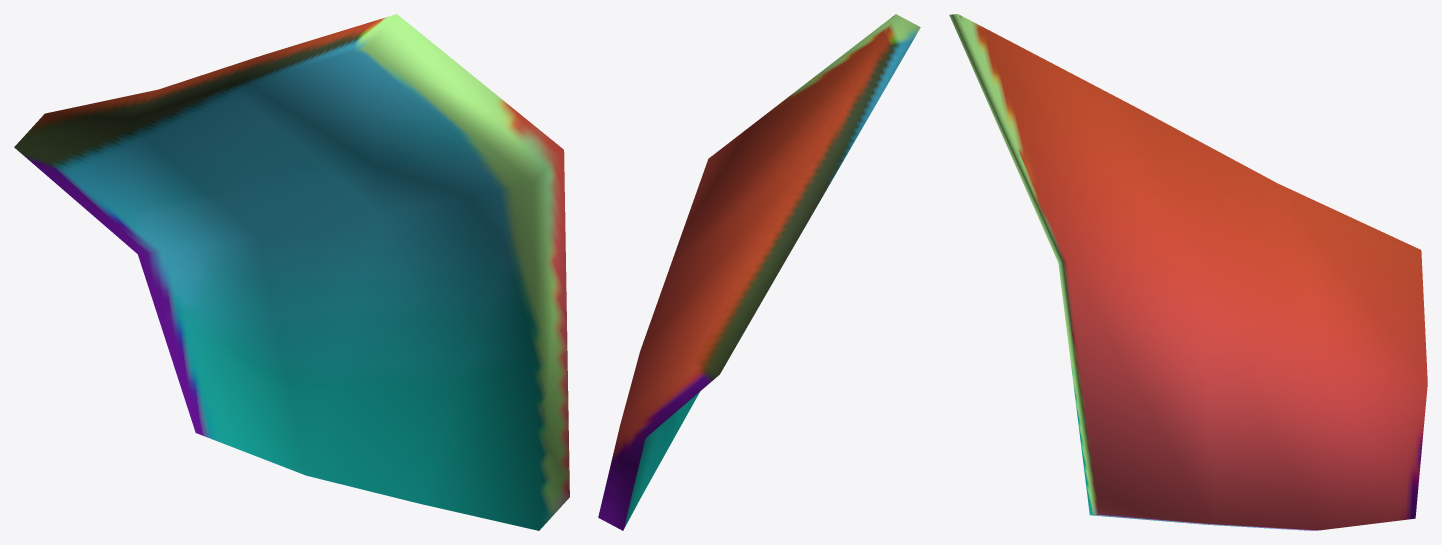
Rendered from ElipAla3.obj.
3 views of the same model, side by side, from view 1: azimuth 30°, elevation 25°; view 2: azimuth 150°, elevation 25°; view 3: azimuth 270°, elevation 25° (orthographic). The views are drawn at different scales.
Visible parts, largest first — view 1: Sphere.011_Sphere.009; view 2: Sphere.011_Sphere.009; view 3: Sphere.011_Sphere.009.
Boxes of the visible parts, x1=… form: Sphere.011_Sphere.009: x1=14, y1=14, x2=569, y2=530; Sphere.011_Sphere.009: x1=598, y1=14, x2=920, y2=530; Sphere.011_Sphere.009: x1=949, y1=14, x2=1427, y2=530.
Bounding box in the file's own units: 0.3858 × 0.8168 × 0.7704.
